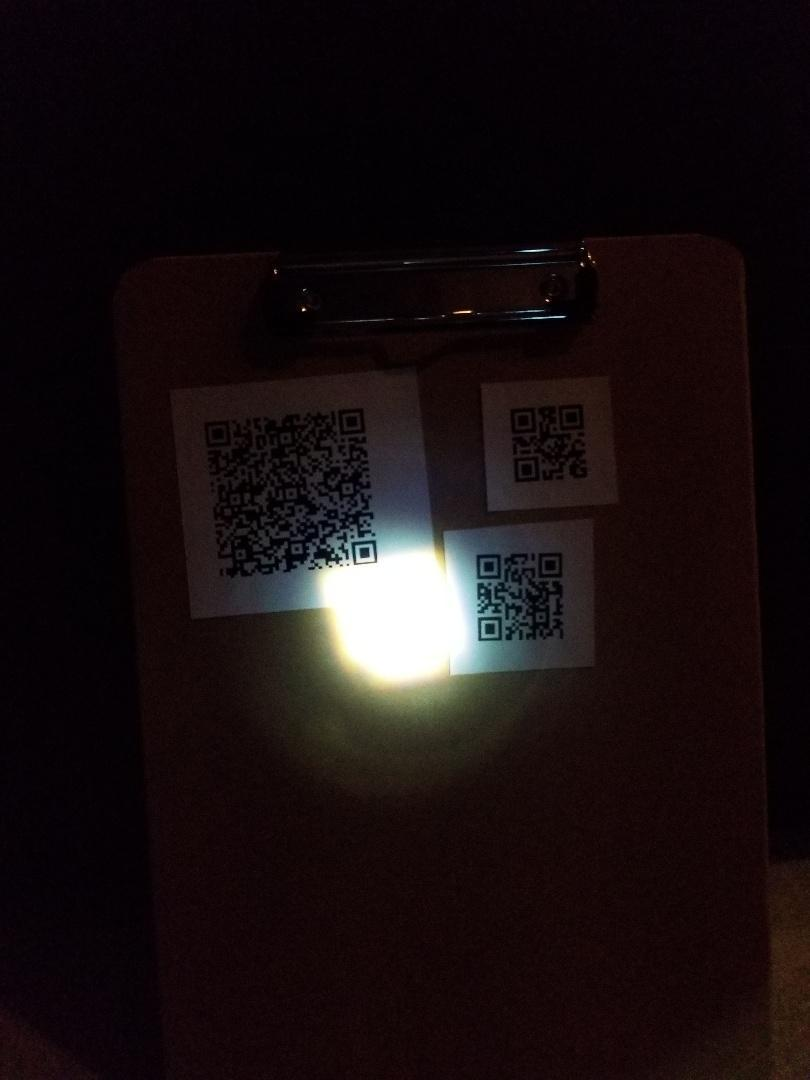Finder pattern: (346, 535, 382, 571), (468, 549, 506, 582), (472, 612, 509, 645), (199, 416, 235, 449), (502, 404, 541, 434), (554, 399, 589, 432), (510, 453, 545, 486), (335, 405, 370, 437), (535, 548, 567, 582)
